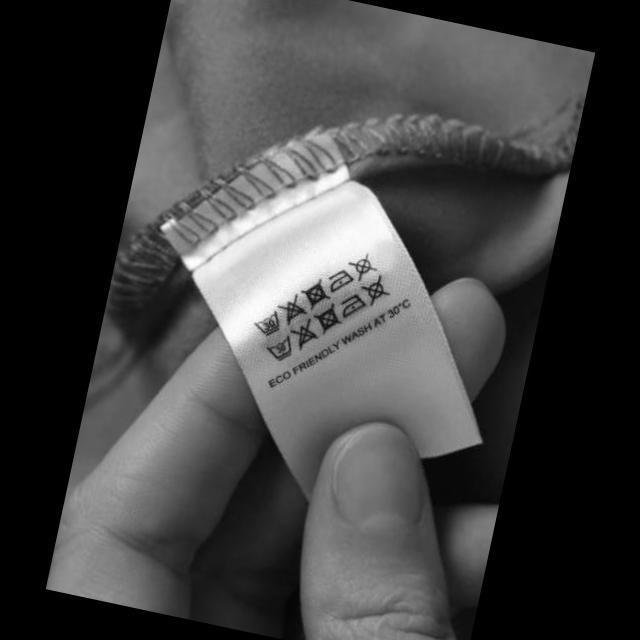30C: (250, 305, 284, 339), (263, 330, 296, 364)
DN_bleach: (271, 288, 312, 329), (285, 313, 324, 355)
DN_dry_clean: (358, 269, 396, 309), (343, 246, 381, 285)
DN_tumble_dry: (308, 297, 348, 338), (296, 272, 336, 312)
iron_low: (336, 288, 370, 322), (324, 264, 357, 296)
